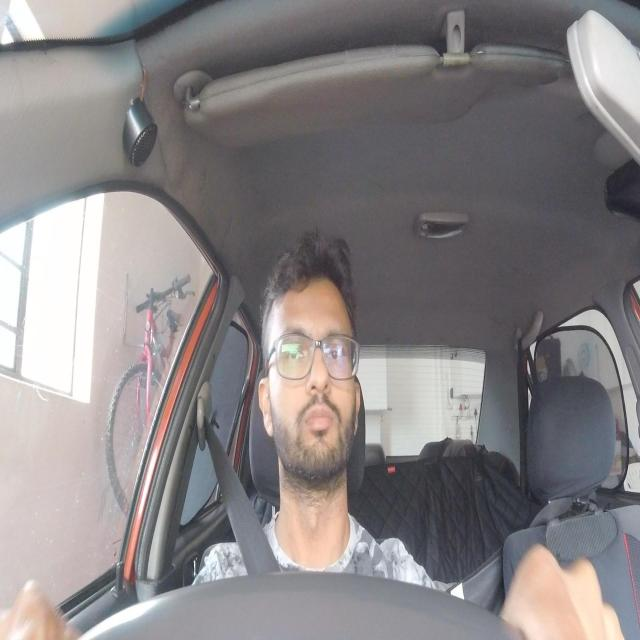open: (276, 323, 313, 376), (323, 323, 352, 375)
